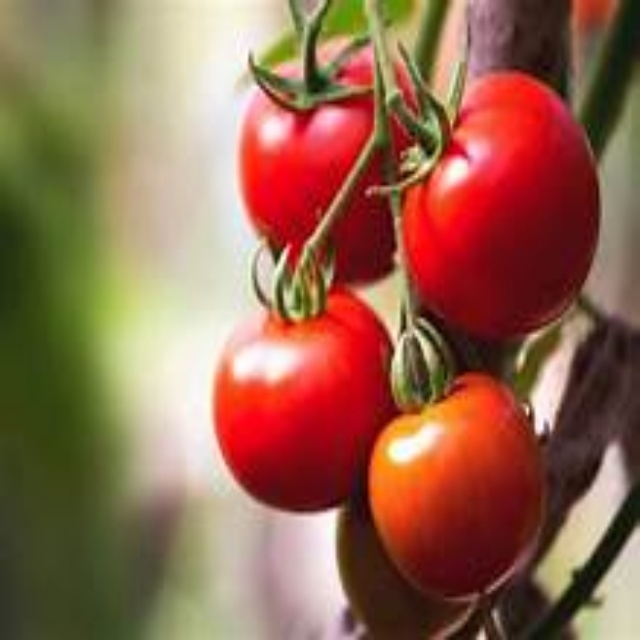tomato: (398, 70, 602, 337), (239, 40, 441, 288), (204, 296, 418, 514), (363, 364, 554, 608)
